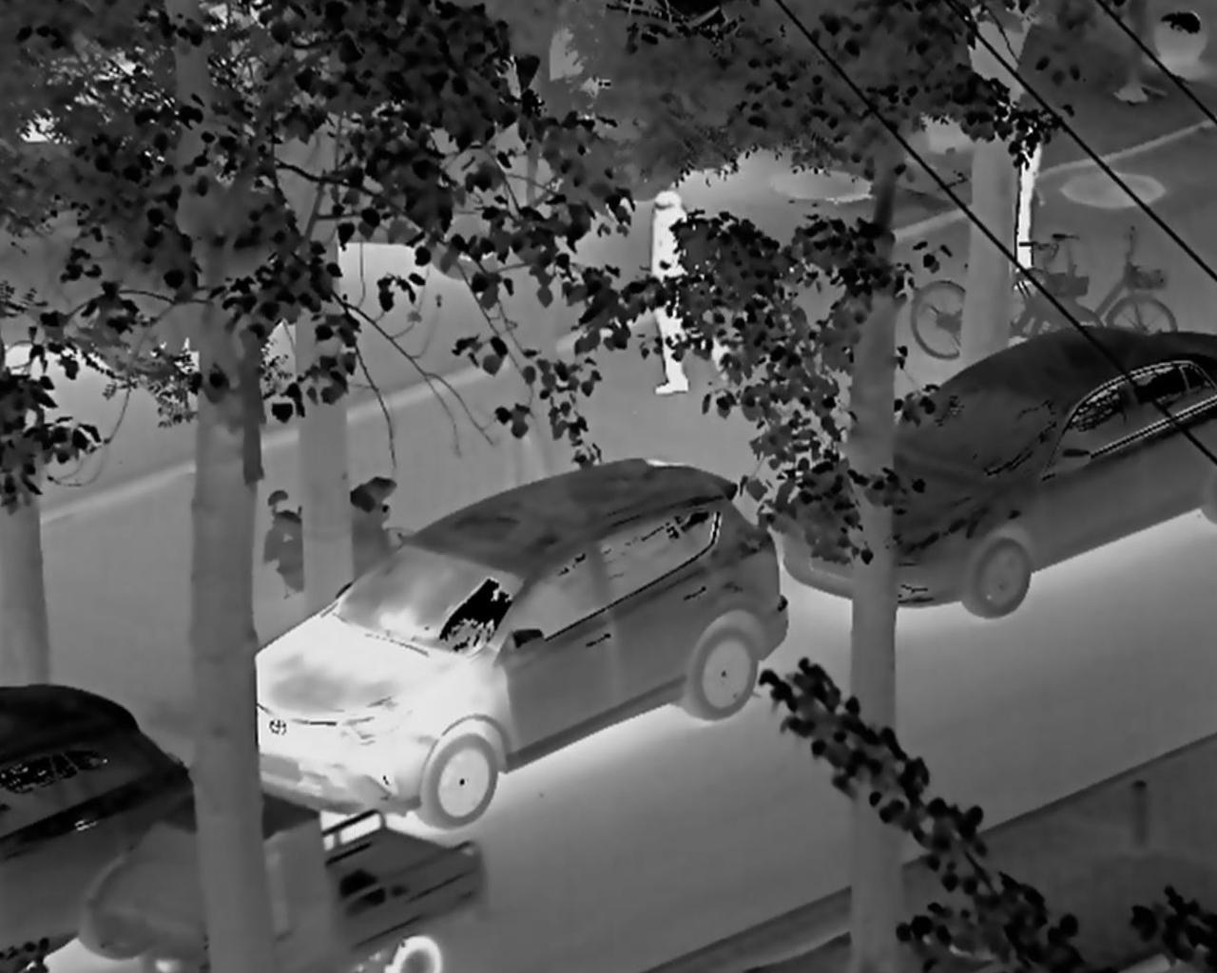person: (633, 157, 743, 418)
